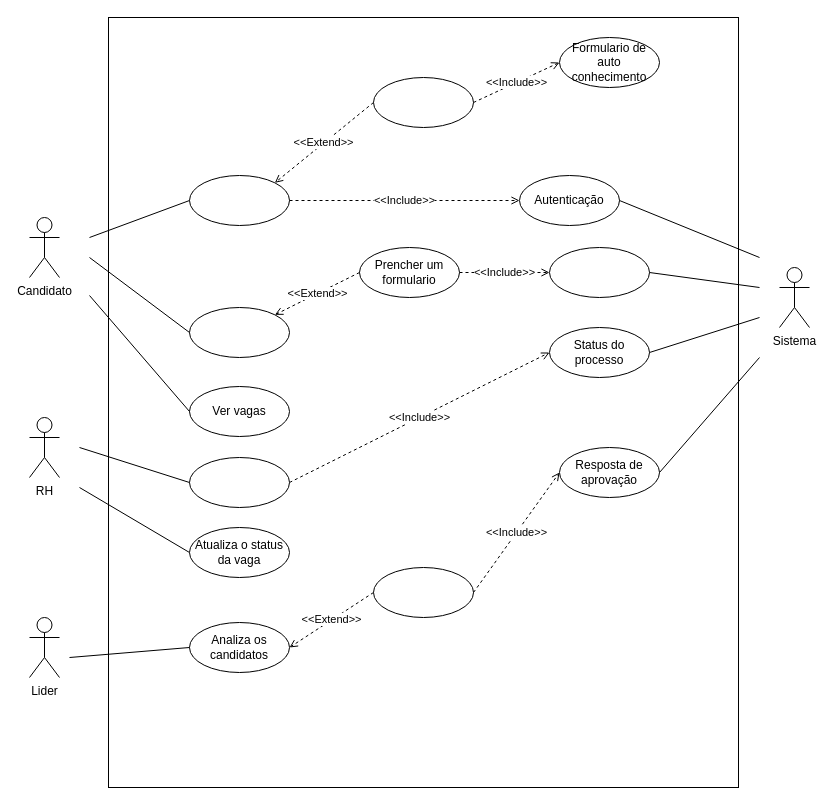
The diagram is 833 pixels wide and 805 high, and some of its shapes have lost their labels. The box of each missing label's shape, as (x1, y1, x2, y2) in pixels:
Aprova ou Recusa: (372, 566, 474, 618)
Cadastrar Usuário: (372, 76, 474, 128)
Efetua Login: (188, 174, 290, 226)
Se Canditar a Vaga: (188, 306, 290, 358)
Verifica a vaga do candidado: (188, 456, 290, 508)
Verificar se o candidato está apito a vaga: (548, 246, 650, 298)
